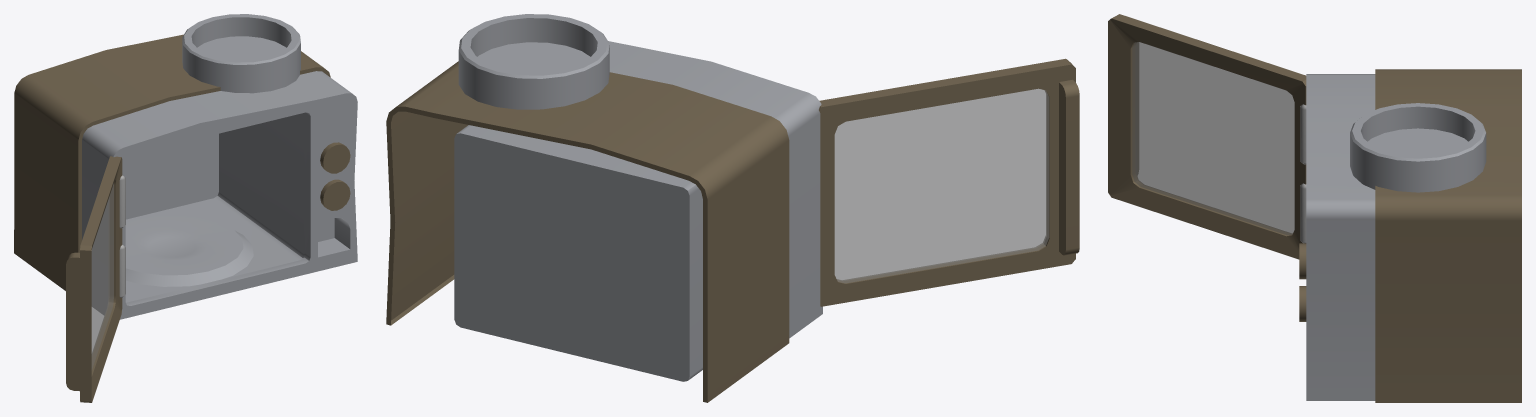
The model's file is SM_Macrowave.fbx.
The picture shows the model from 3 angles, left to right: view 1: azimuth 30°, elevation 25°; view 2: azimuth 150°, elevation 25°; view 3: azimuth 270°, elevation 25°; orthographic projection. The views are drawn at different scales.
Visible parts, largest first — view 1: polySurface66; view 2: polySurface66; view 3: polySurface66.
Part boxes in pixels (left/top/right/bottom): polySurface66: left=14, top=14, right=357, bottom=402; polySurface66: left=386, top=14, right=1079, bottom=402; polySurface66: left=1108, top=14, right=1521, bottom=402.
Bounding box in the file's own units: 456 × 238 × 384.
